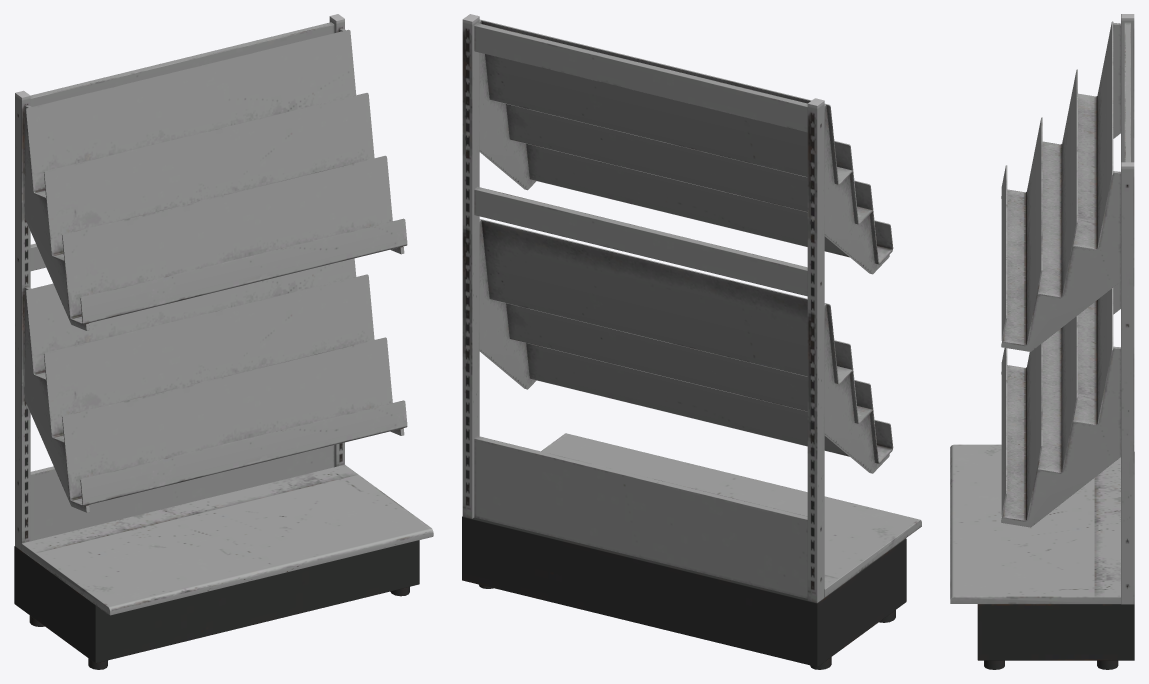
Rendered from 178_magazineshelf01a.fbx.
3 renders of one model, left to right at view 1: azimuth 30°, elevation 25°; view 2: azimuth 150°, elevation 25°; view 3: azimuth 270°, elevation 25°, orthographic. The views are drawn at different scales.
Parts seen in each view (by area): view 1: LOD_1_Group_0_Sub_1__sm30_178_MagazineShelf01A_A_Mat; view 2: LOD_1_Group_0_Sub_1__sm30_178_MagazineShelf01A_A_Mat; view 3: LOD_1_Group_0_Sub_1__sm30_178_MagazineShelf01A_A_Mat.
Boxes of the visible parts, x1,y1,x2,y2 form: LOD_1_Group_0_Sub_1__sm30_178_MagazineShelf01A_A_Mat: [14, 14, 433, 669]; LOD_1_Group_0_Sub_1__sm30_178_MagazineShelf01A_A_Mat: [462, 14, 921, 669]; LOD_1_Group_0_Sub_1__sm30_178_MagazineShelf01A_A_Mat: [950, 14, 1134, 669].
Size of the model in its own units: 1.05 by 1.61 by 0.5338.
